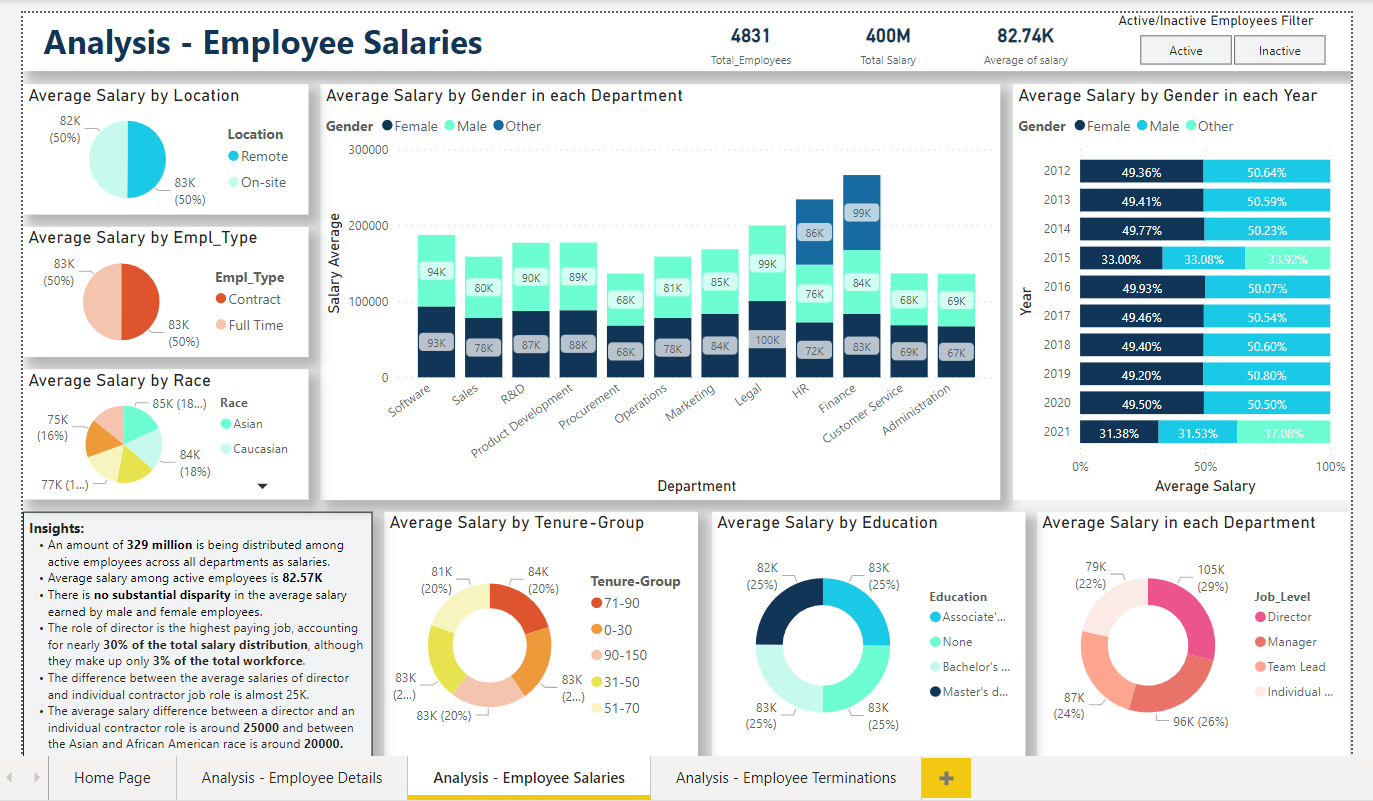

Layout of this report page (visuals, bound fields, positions):
{"tool":"powerbi","page":{"name":"Analysis - Employee Salaries","canvas":[1280,720],"ordinal":2},"visuals":[{"type":"textbox","box":[0,0,1280,56.2],"z":0},{"type":"card","fields":{"Values":["Calculations.Total_Employees"]},"box":[635.6,0,131.5,56.7],"z":1000},{"type":"slicer","title":"Active/Inactive Employees Filter","fields":{"Values":["people_analytics_start.Active/Inactive Employees"]},"box":[1050.5,0,229.1,56.7],"z":2000},{"type":"card","fields":{"Values":["Avg(people_analytics_start.salary)"]},"box":[899.7,0,132.7,56.7],"z":3000},{"type":"donutChart","title":"Average Salary in each Department","fields":{"Y":["Avg(people_analytics_start.salary)"],"Category":["people_analytics_start.job_level"]},"box":[976.9,481.2,302.7,238.8],"z":4000},{"type":"lineStackedColumnComboChart","title":"Average Salary by Gender in each Department","fields":{"Category":["people_analytics_start.department"],"Series":["people_analytics_start.gender"],"Y":["Avg(people_analytics_start.salary)"]},"box":[287,68.7,654.9,400.4],"z":5000},{"type":"donutChart","fields":{"Category":["people_analytics_start.education"],"Y":["Avg(people_analytics_start.salary)"]},"box":[663.3,481.2,302.7,238.8],"z":6000},{"type":"donutChart","fields":{"Category":["people_analytics_start.tenure-group"],"Y":["Avg(people_analytics_start.salary)"]},"box":[348.5,481.2,302.7,238.8],"z":7000},{"type":"textbox","box":[0,481.2,336.5,238.8],"z":8000},{"type":"pieChart","fields":{"Y":["Avg(people_analytics_start.salary)"],"Category":["people_analytics_start.location"]},"box":[0,68.7,275,125.4],"z":9000},{"type":"pieChart","fields":{"Y":["Avg(people_analytics_start.salary)"],"Series":["people_analytics_start.employment_status"]},"box":[0,206.2,275,125.4],"z":10000},{"type":"card","fields":{"Values":["Sum(people_analytics_start.salary)"]},"box":[767,0,132.7,56.7],"z":11000},{"type":"pieChart","fields":{"Y":["Avg(people_analytics_start.salary)"],"Category":["people_analytics_start.race"]},"box":[0,343.7,275,125.4],"z":12000},{"type":"hundredPercentStackedBarChart","title":"Average Salary by Gender in each Year","fields":{"Category":["people_analytics_start.Year"],"Y":["Avg(people_analytics_start.salary)"],"Series":["people_analytics_start.gender"]},"box":[954,68.7,325.6,400.4],"z":13000}]}

Visuals, with their boxes on the page's 1280x720 design canvas (x1, y1, x2, y2). These are canvas units, not pixel positions in the 1373x801 screenshot, which may show the page scaled, cropped or inside an application window:
textbox: [x1=0, y1=0, x2=1280, y2=56]
card - Calculations.Total_Employees: [x1=636, y1=0, x2=767, y2=57]
"Active/Inactive Employees Filter" slicer: [x1=1050, y1=0, x2=1280, y2=57]
card - Avg(people_analytics_start.salary): [x1=900, y1=0, x2=1032, y2=57]
"Average Salary in each Department" donutChart: [x1=977, y1=481, x2=1280, y2=720]
"Average Salary by Gender in each Department" lineStackedColumnComboChart: [x1=287, y1=69, x2=942, y2=469]
donutChart - people_analytics_start.education x Avg(people_analytics_start.salary): [x1=663, y1=481, x2=966, y2=720]
donutChart - people_analytics_start.tenure-group x Avg(people_analytics_start.salary): [x1=348, y1=481, x2=651, y2=720]
textbox: [x1=0, y1=481, x2=336, y2=720]
pieChart - Avg(people_analytics_start.salary) x people_analytics_start.location: [x1=0, y1=69, x2=275, y2=194]
pieChart - Avg(people_analytics_start.salary) x people_analytics_start.employment_status: [x1=0, y1=206, x2=275, y2=332]
card - Sum(people_analytics_start.salary): [x1=767, y1=0, x2=900, y2=57]
pieChart - Avg(people_analytics_start.salary) x people_analytics_start.race: [x1=0, y1=344, x2=275, y2=469]
"Average Salary by Gender in each Year" hundredPercentStackedBarChart: [x1=954, y1=69, x2=1280, y2=469]
